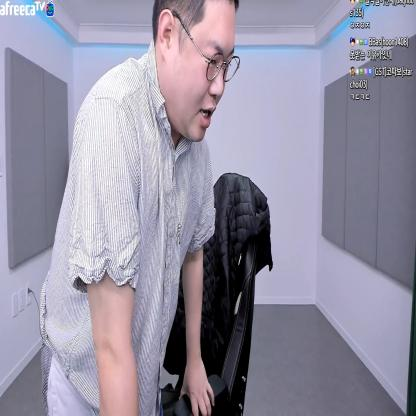streamer: (40, 0, 241, 416)
